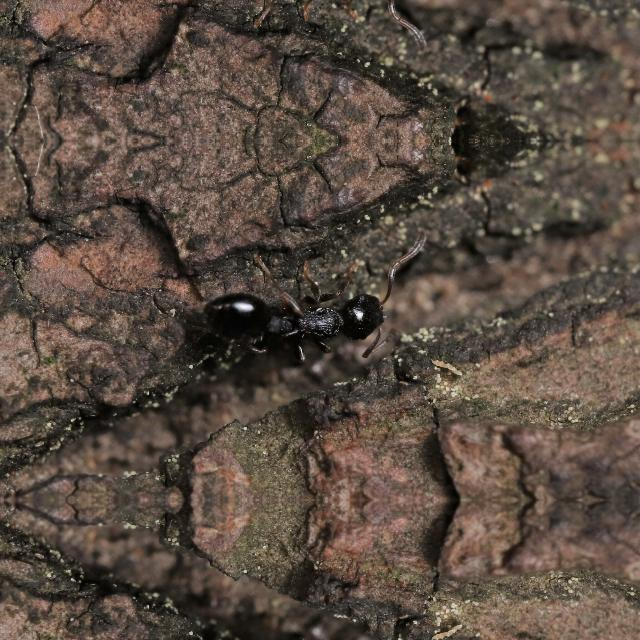Temnothorax: (194, 231, 451, 379), (192, 0, 449, 48)
